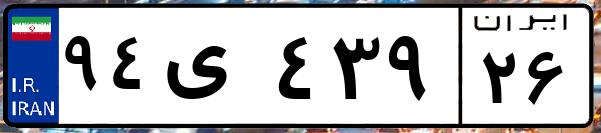2: (475, 38, 525, 113)
3: (330, 28, 385, 110)
4: (270, 28, 330, 110), (110, 28, 158, 98)
6: (525, 38, 570, 115)
9: (385, 28, 445, 110), (57, 26, 110, 100)
ی: (158, 20, 270, 120)
